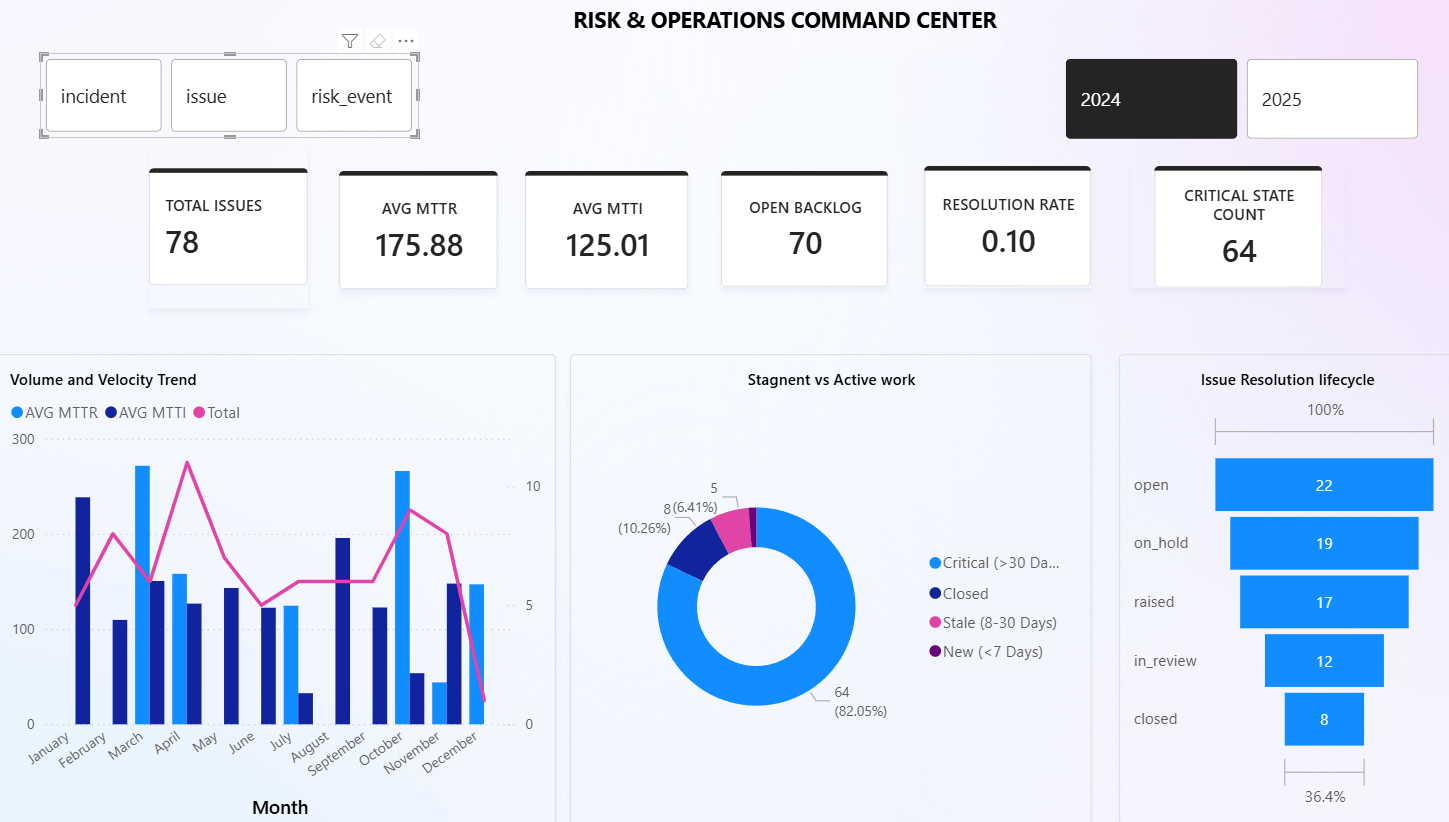

This screenshot's page, from the dashboard's own definition file:
{"tool":"powerbi","page":{"name":"OVERVIEW","canvas":[1280,720],"ordinal":0},"visuals":[{"type":"textbox","box":[493.4,0,376.1,46.6],"z":0},{"type":"cardVisual","title":"t","fields":{"Data":["Calendar.TOTAL ISSUES"]},"box":[132.5,126.3,137,141.5],"z":1000},{"type":"cardVisual","fields":{"Data":["Calendar.OPEN BACKLOG"]},"box":[626,148.7,144.2,100.3],"z":2000},{"type":"cardVisual","fields":{"Data":["Calendar.RESOLUTION RATE"]},"box":[801.5,144.2,144.2,104.8],"z":3000},{"type":"cardVisual","fields":{"Data":["Calendar.AVG MTTI"]},"box":[456.7,148.7,141.5,102.1],"z":4000},{"type":"cardVisual","fields":{"Data":["Calendar.CRITICAL STATE COUNT"]},"box":[979.7,144.2,185.4,105],"z":6000},{"type":"cardVisual","fields":{"Data":["Calendar.AVG MTTR"]},"box":[296.4,148.7,137,102.1],"z":7000},{"type":"lineClusteredColumnComboChart","title":"Volume and Velocity Trend","fields":{"Category":["fct_Issues.CreatedDate.Variation.Date Hierarchy.Month","fct_Issues.CreatedDate.Variation.Date Hierarchy.Day"],"Y2":["CountNonNull(fct_Issues.NaturalKey)"],"Y":["Calendar.AVG MTTR","Calendar.AVG MTTI"]},"box":[0,306.3,483.6,413.7],"z":8000},{"type":"funnel","title":"Issue Resolution lifecycle","fields":{"Category":["fct_Issues.CurrentStatus"],"Y":["Calendar.TOTAL ISSUES"]},"box":[969.9,306.3,289.3,405.7],"z":9000},{"type":"donutChart","title":"Stagnent vs Active work","fields":{"Category":["fct_Issues.AgeBucket"],"Y":["CountNonNull(fct_Issues.IsOpen)"]},"box":[496.1,306.3,449.6,413.7],"z":10000},{"type":"advancedSlicerVisual","fields":{"Values":["fct_Issues.Type"]},"box":[38.5,46.6,326.9,73.4],"z":12000},{"type":"advancedSlicerVisual","fields":{"Values":["fct_Issues.CreatedDate.Variation.Date Hierarchy.Year"]},"box":[918.8,46.6,315.2,79.7],"z":13000}]}

Visuals, with their boxes in screenshot pixels (x1, y1, x2, y2), scaled from the page's 1280x720 canvas onto the 1449x822 screenshot:
textbox: <region>559, 0, 984, 53</region>
"t" cardVisual: <region>150, 144, 305, 306</region>
cardVisual - Calendar.OPEN BACKLOG: <region>709, 170, 872, 284</region>
cardVisual - Calendar.RESOLUTION RATE: <region>907, 165, 1071, 284</region>
cardVisual - Calendar.AVG MTTI: <region>517, 170, 677, 286</region>
cardVisual - Calendar.CRITICAL STATE COUNT: <region>1109, 165, 1319, 285</region>
cardVisual - Calendar.AVG MTTR: <region>336, 170, 491, 286</region>
"Volume and Velocity Trend" lineClusteredColumnComboChart: <region>0, 350, 547, 821</region>
"Issue Resolution lifecycle" funnel: <region>1098, 350, 1425, 813</region>
"Stagnent vs Active work" donutChart: <region>562, 350, 1071, 821</region>
advancedSlicerVisual - fct_Issues.Type: <region>44, 53, 414, 137</region>
advancedSlicerVisual - fct_Issues.CreatedDate.Variation.Date Hierarchy.Year: <region>1040, 53, 1397, 144</region>
